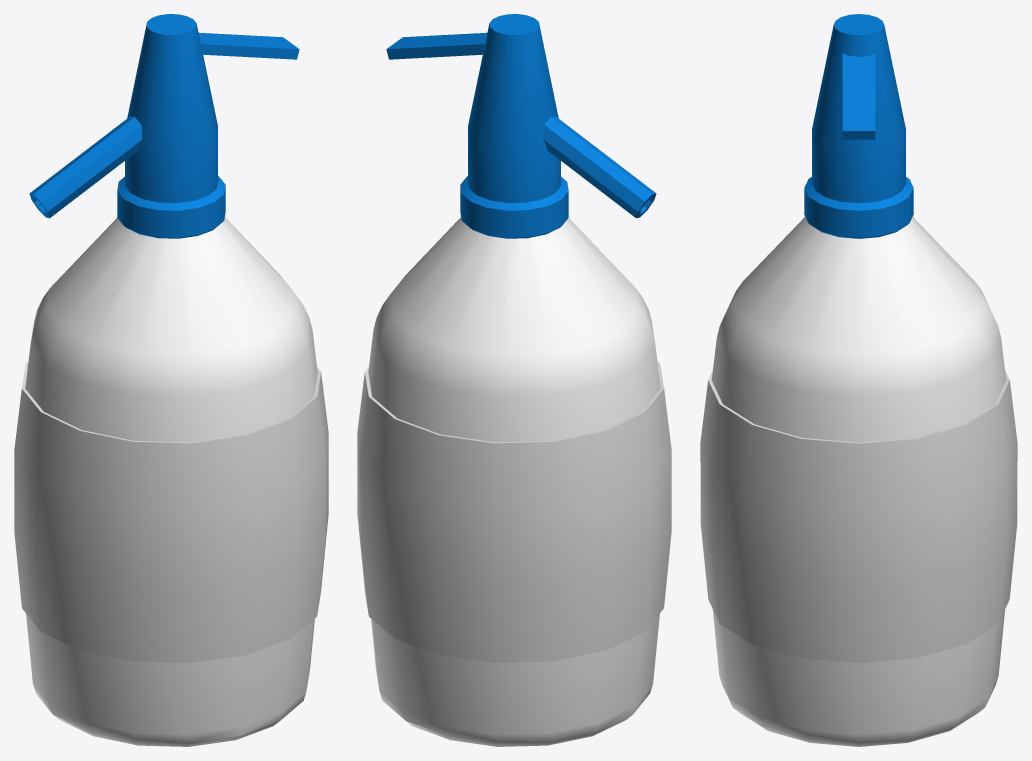
File: gaseosa.fbx
3 views of the same model, side by side, from view 1: azimuth 30°, elevation 25°; view 2: azimuth 150°, elevation 25°; view 3: azimuth 270°, elevation 25° (orthographic).
Visible parts, largest first — view 1: bottle, label; view 2: bottle, label; view 3: bottle, label.
Part boxes in pixels (<box>): bottle: <box>25,14,317,746</box>; label: <box>14,361,328,662</box>; bottle: <box>368,14,660,746</box>; label: <box>357,361,671,662</box>; bottle: <box>711,14,1006,746</box>; label: <box>700,370,1017,663</box>.
Bounding box in the file's own units: 43.68 × 102 × 43.57.
